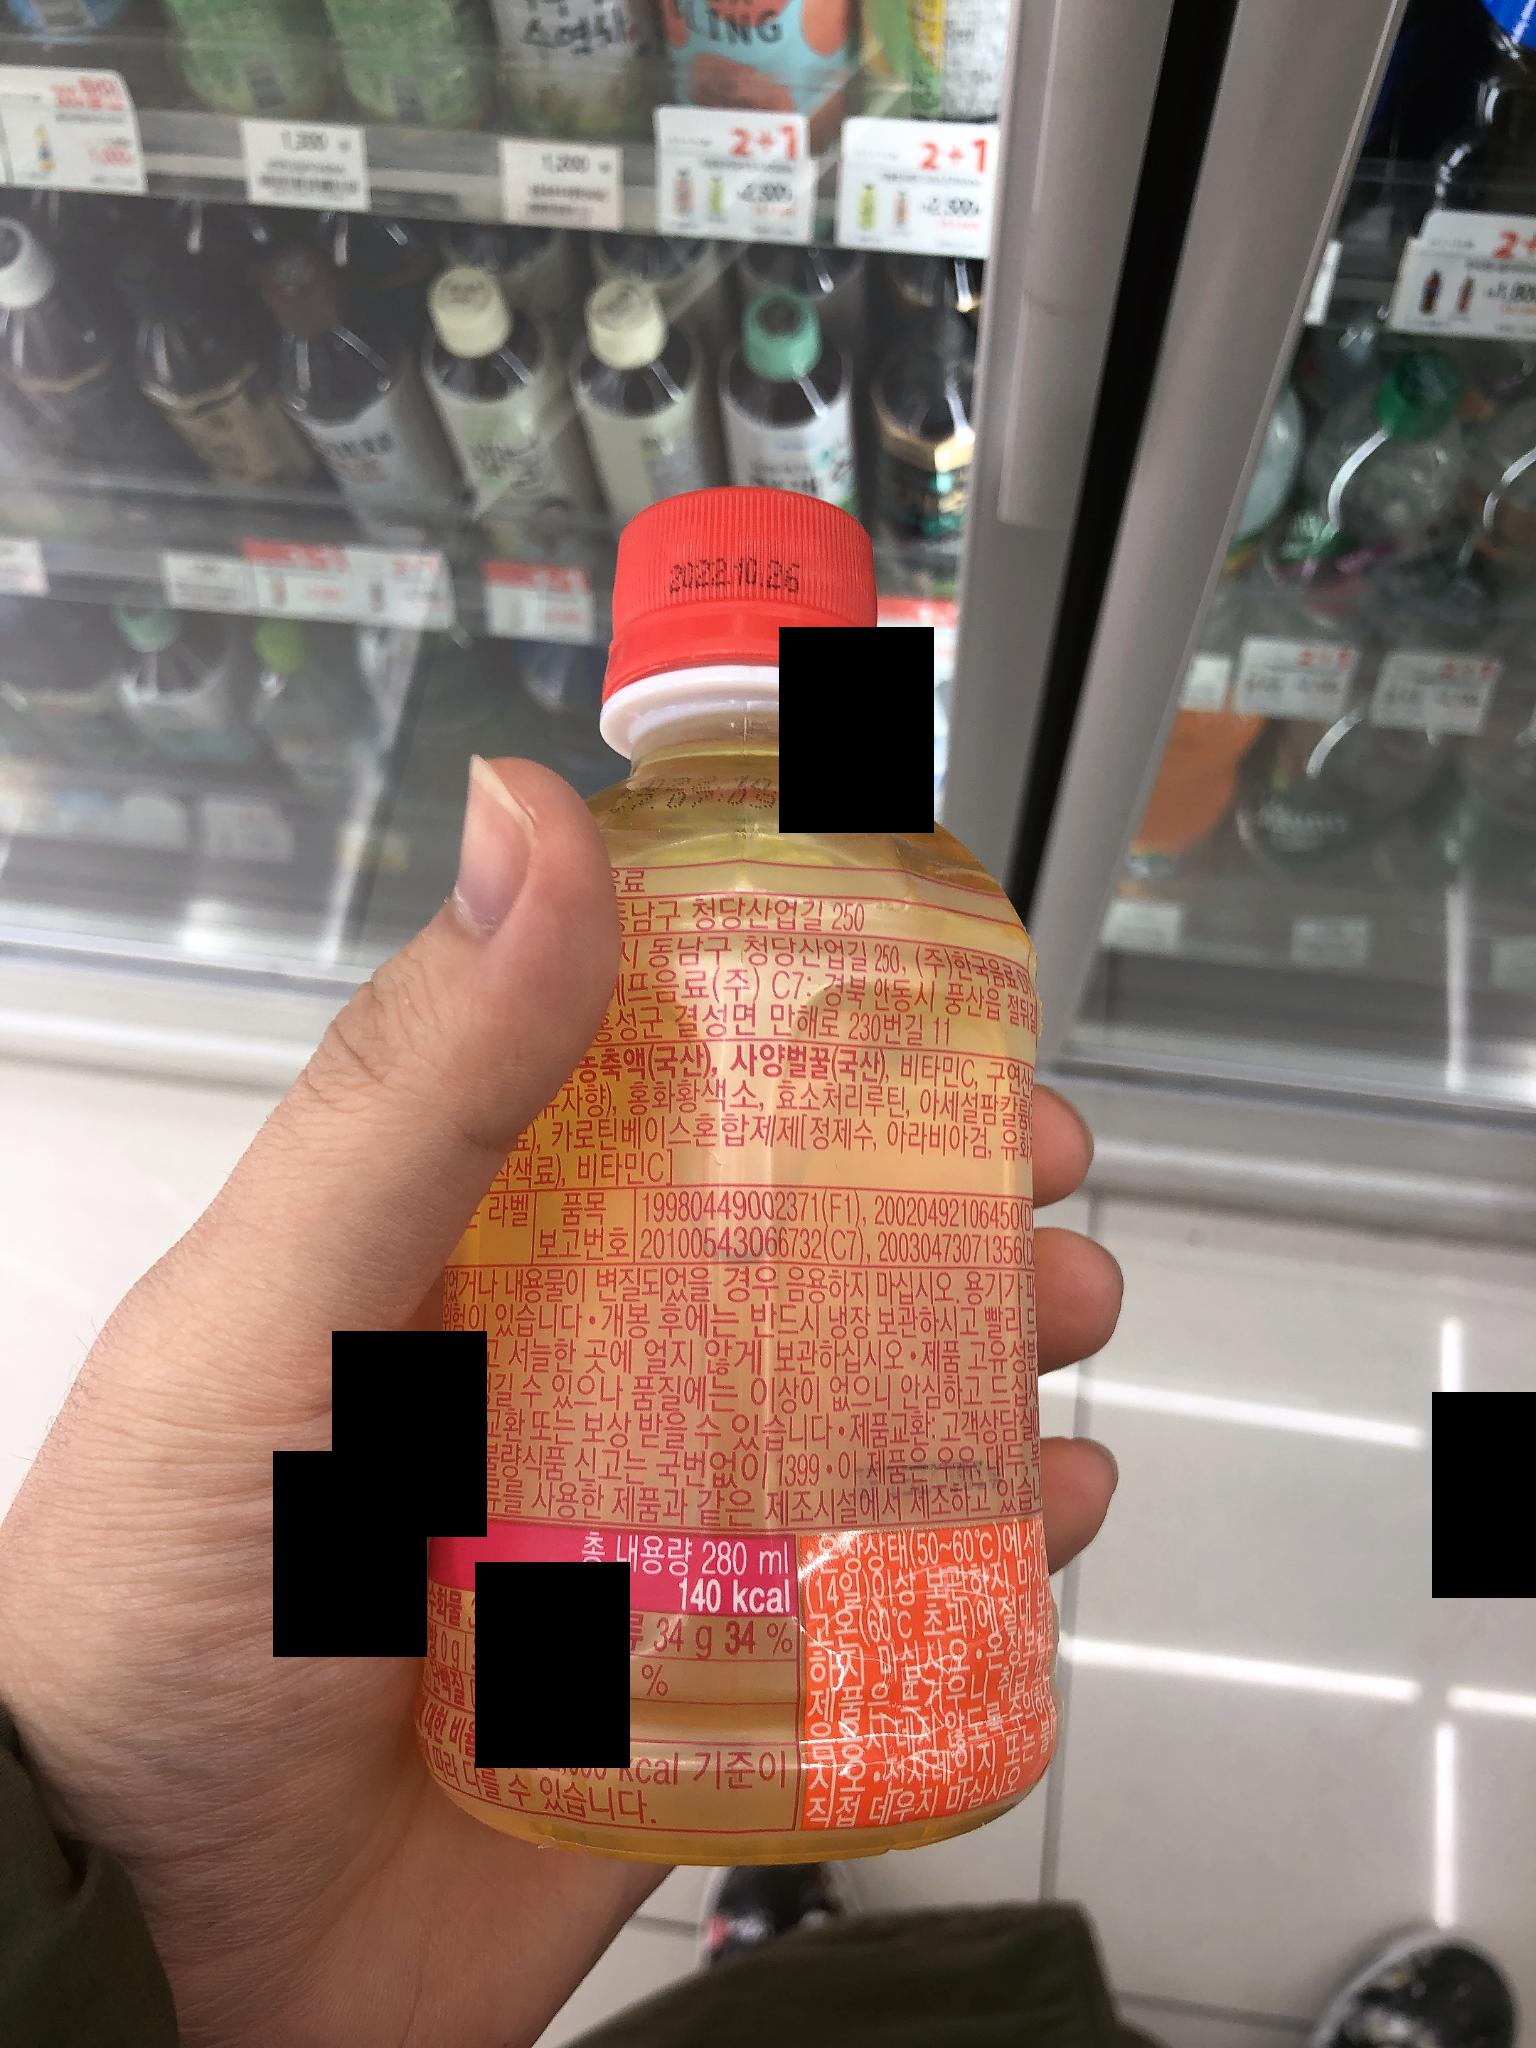honeyyuja: (387, 440, 1150, 1898)
